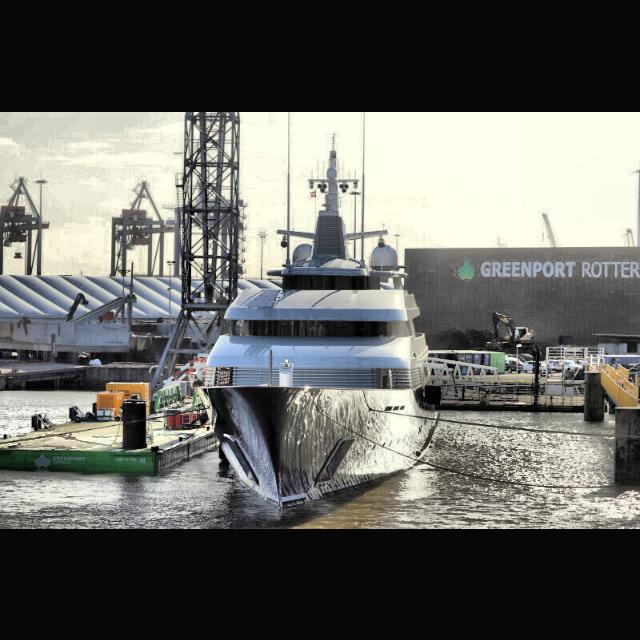yacht: (195, 132, 442, 514)
